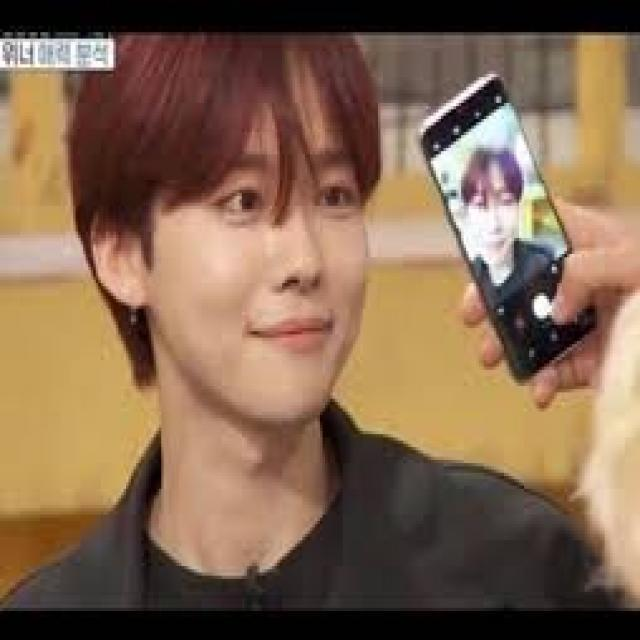Phone: (421, 68, 614, 384)
